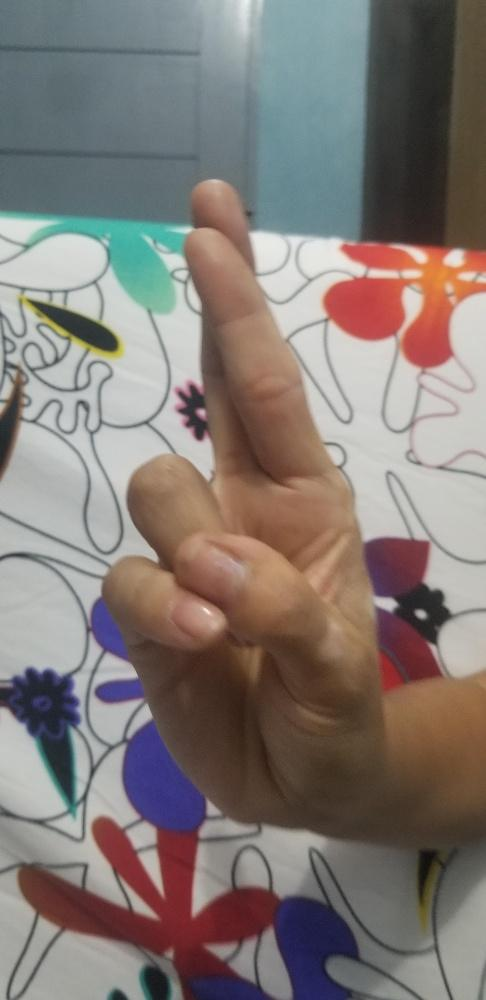r: (98, 173, 381, 828)
